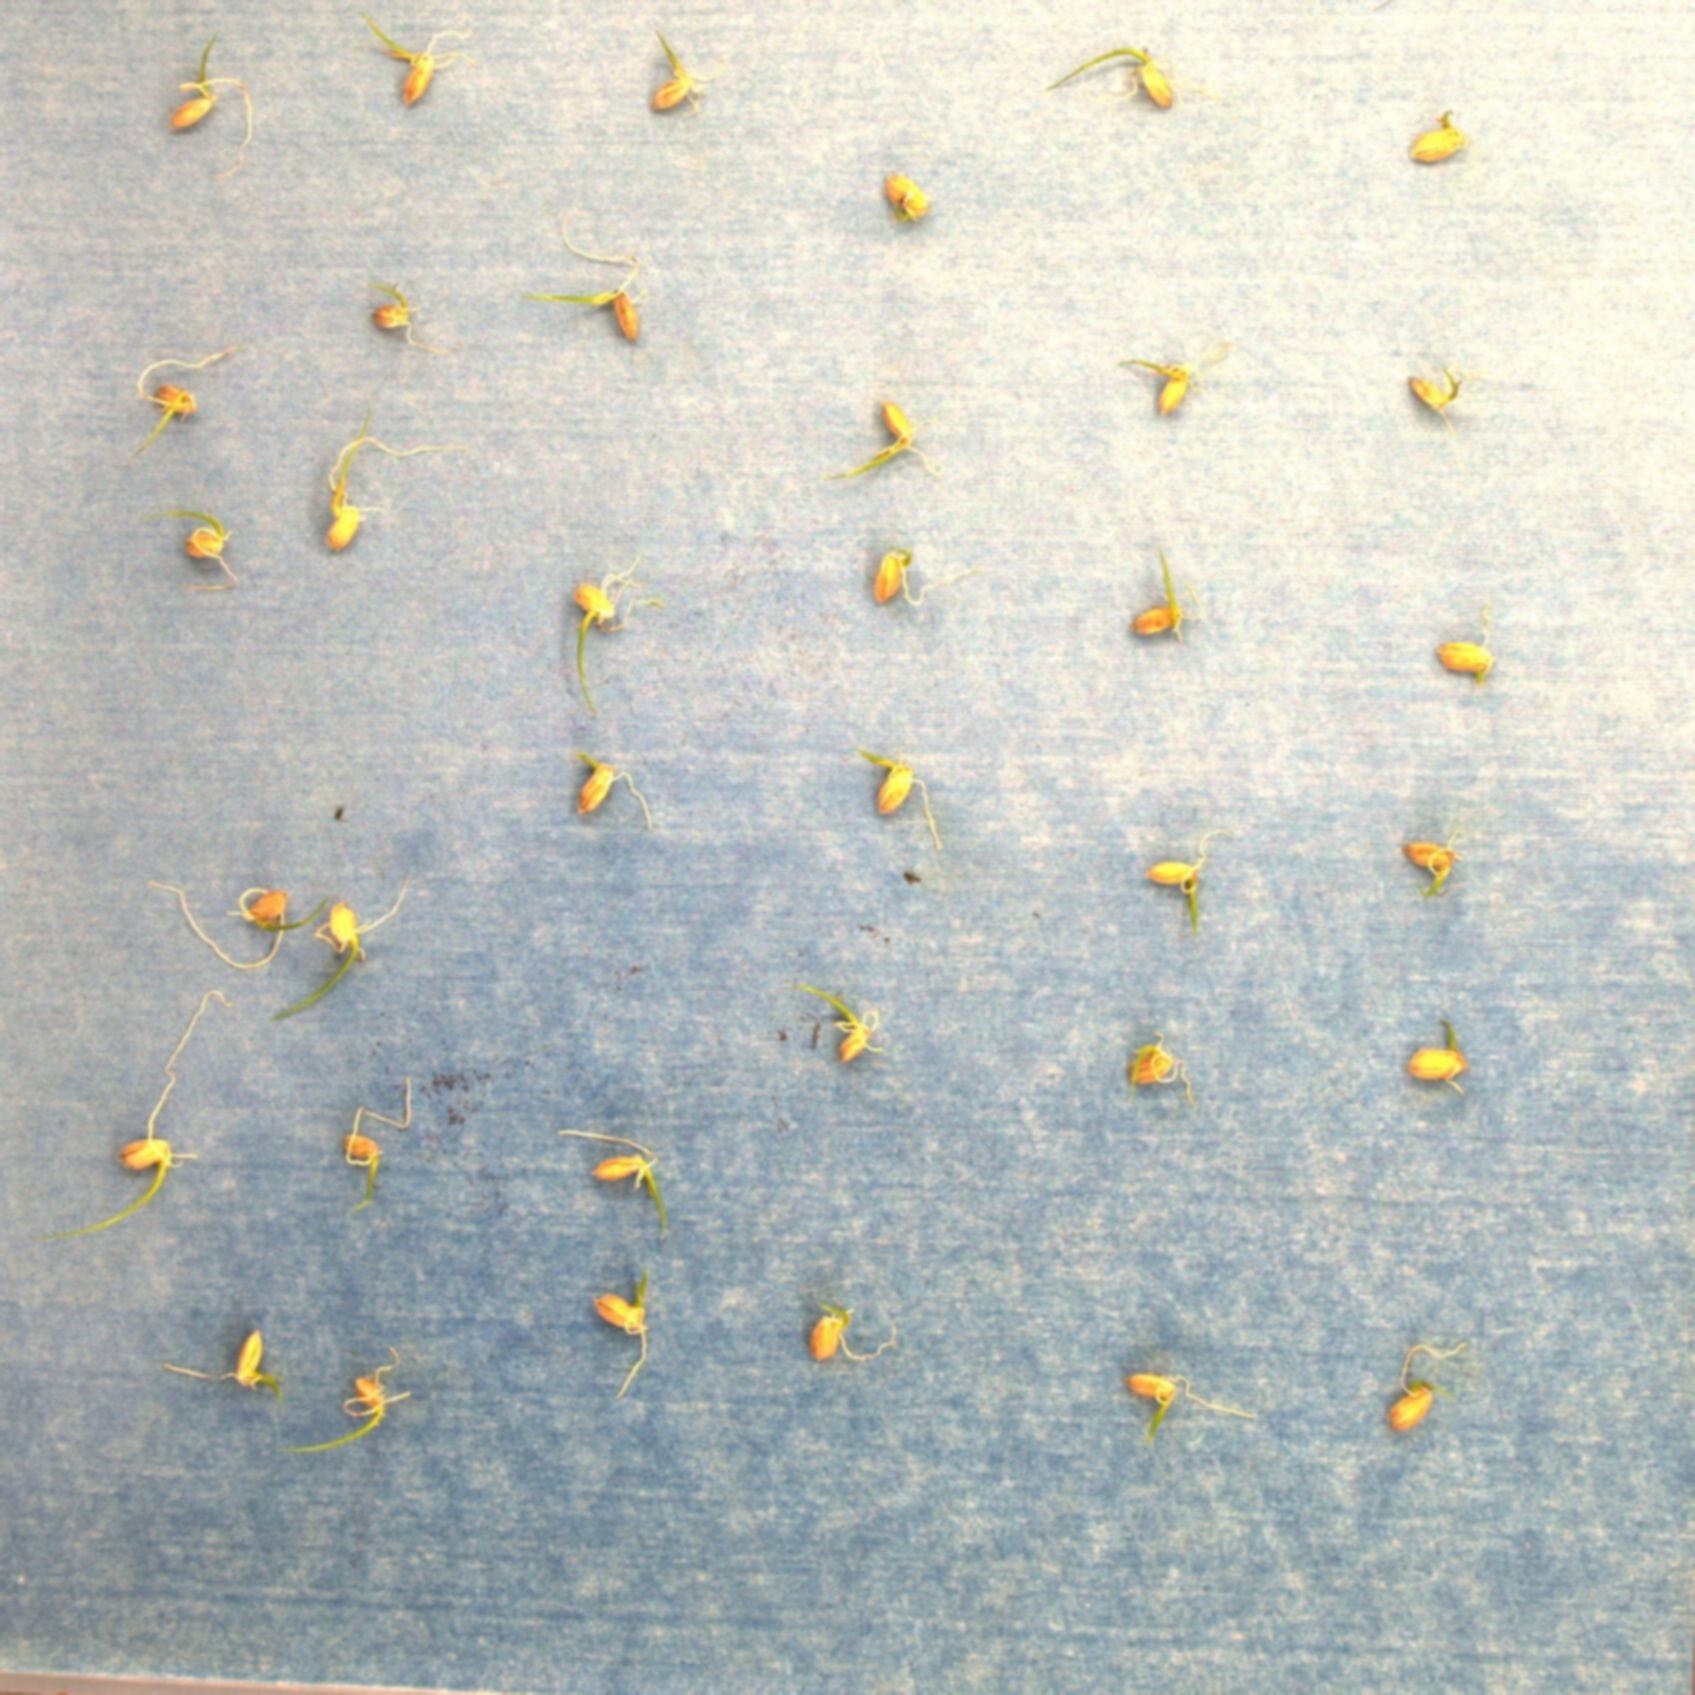not sprout: (563, 751, 653, 832), (1444, 594, 1499, 691), (1412, 106, 1471, 172), (882, 165, 938, 231)
sprout: (75, 989, 231, 1239), (317, 414, 469, 557), (276, 882, 404, 1017), (151, 872, 323, 972), (563, 557, 664, 717), (523, 219, 647, 343), (289, 1346, 418, 1454), (1048, 43, 1212, 120), (557, 1124, 669, 1229), (827, 394, 948, 487), (345, 1076, 418, 1225), (130, 349, 237, 450), (169, 37, 256, 161), (359, 12, 470, 109), (161, 1327, 286, 1409), (138, 508, 245, 601), (1122, 1364, 1257, 1434), (858, 750, 948, 852), (1122, 341, 1242, 413), (869, 537, 981, 612), (636, 22, 726, 113), (1142, 826, 1222, 930), (804, 1287, 900, 1367), (591, 1259, 649, 1394), (1128, 548, 1206, 647), (363, 276, 450, 362), (799, 979, 886, 1063), (1391, 1336, 1462, 1430), (1128, 1018, 1194, 1104), (1406, 1018, 1476, 1096), (1399, 815, 1458, 893), (1405, 363, 1461, 435)
